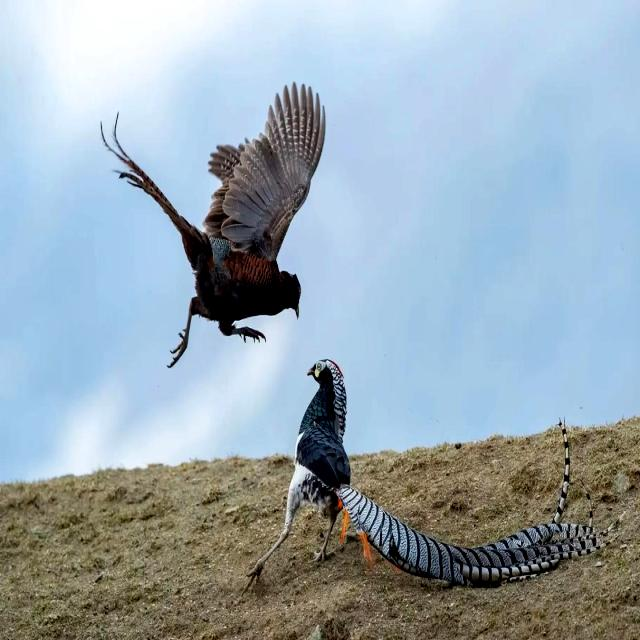Chrysolophus amherstiae: (337, 486, 600, 585)
